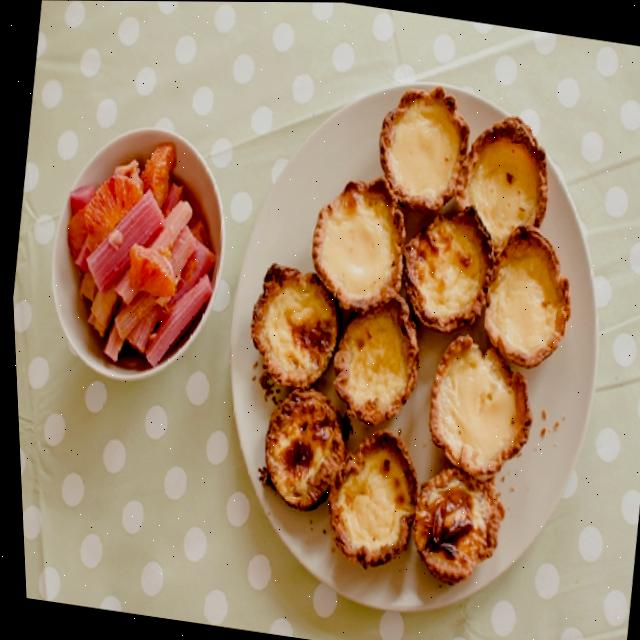炸货点心: (168, 37, 640, 640)
蛋糕甜品: (168, 37, 640, 640)
